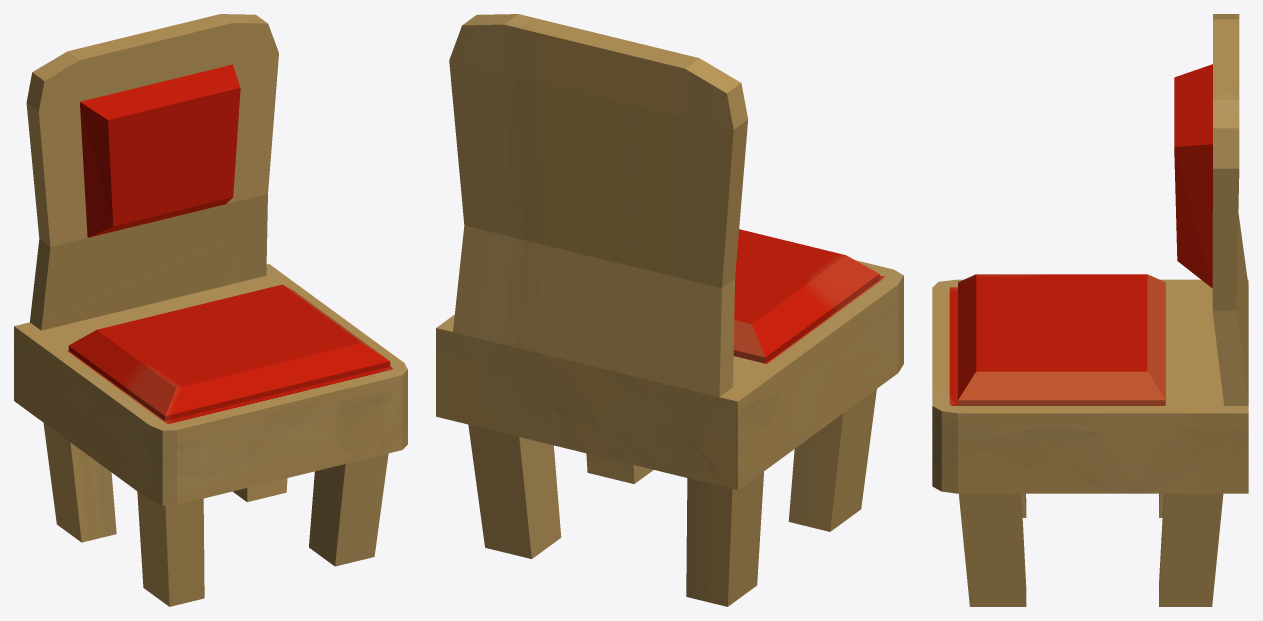
File: Chair 1.fbx
3 views of the same model, side by side, from view 1: azimuth 30°, elevation 25°; view 2: azimuth 150°, elevation 25°; view 3: azimuth 270°, elevation 25° (orthographic). The views are drawn at different scales.
Visible parts, largest first — view 1: pCube1; view 2: pCube1; view 3: pCube1.
Boxes of the visible parts, left/top/right/bottom form: pCube1: left=14, top=14, right=407, bottom=606; pCube1: left=436, top=14, right=903, bottom=606; pCube1: left=932, top=14, right=1248, bottom=606.
Bounding box in the file's own units: 1.1 × 1.89 × 1.1.
1 material, 1 textured.
